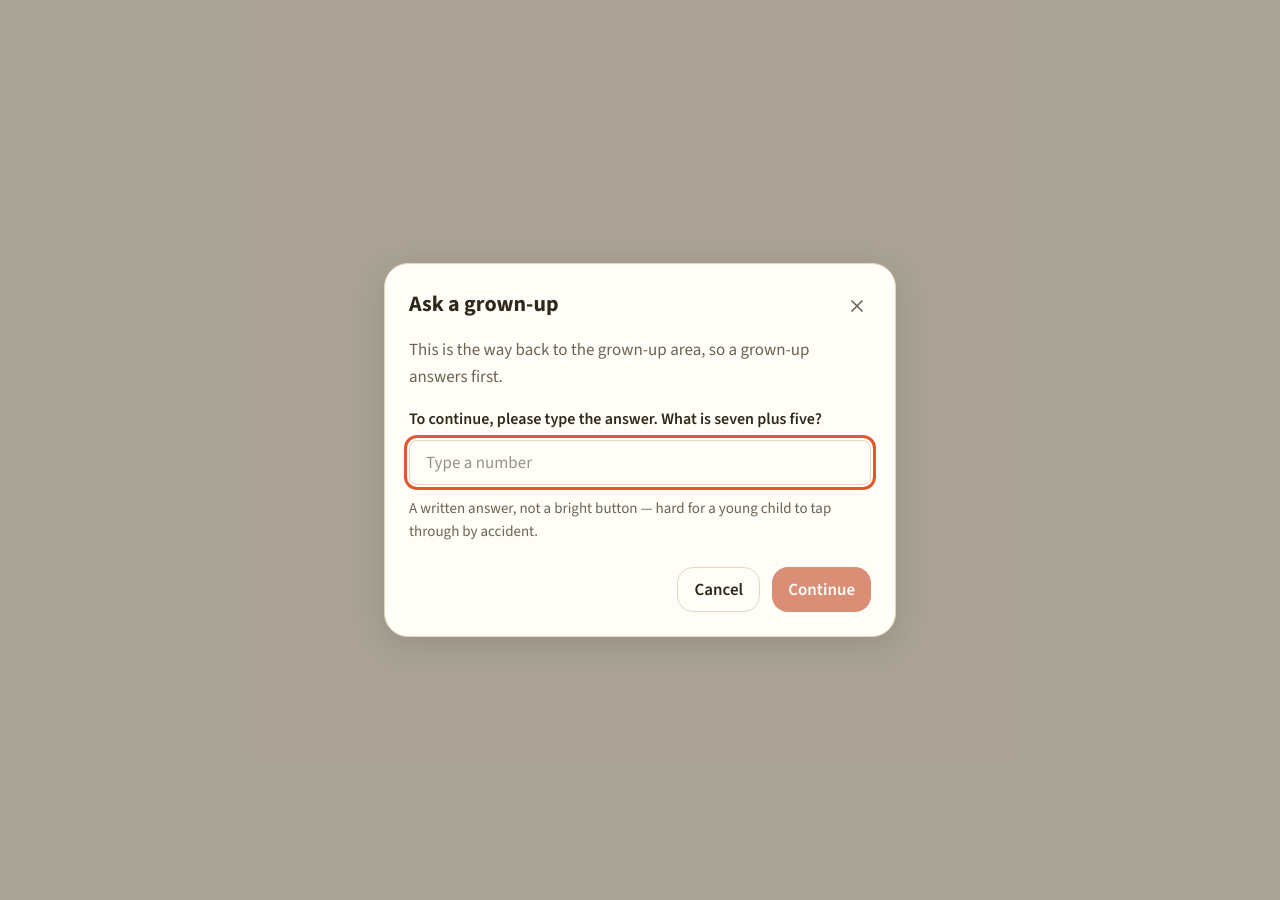
Test case: ParentalGate › keeps Continue disabled until the answer is right
Later steps or results of the test are not shown.
Expected: the button "Continue" is disabled, [772,567,871,612]
Type "11" into the field at (640, 462), box [409,440,871,485]
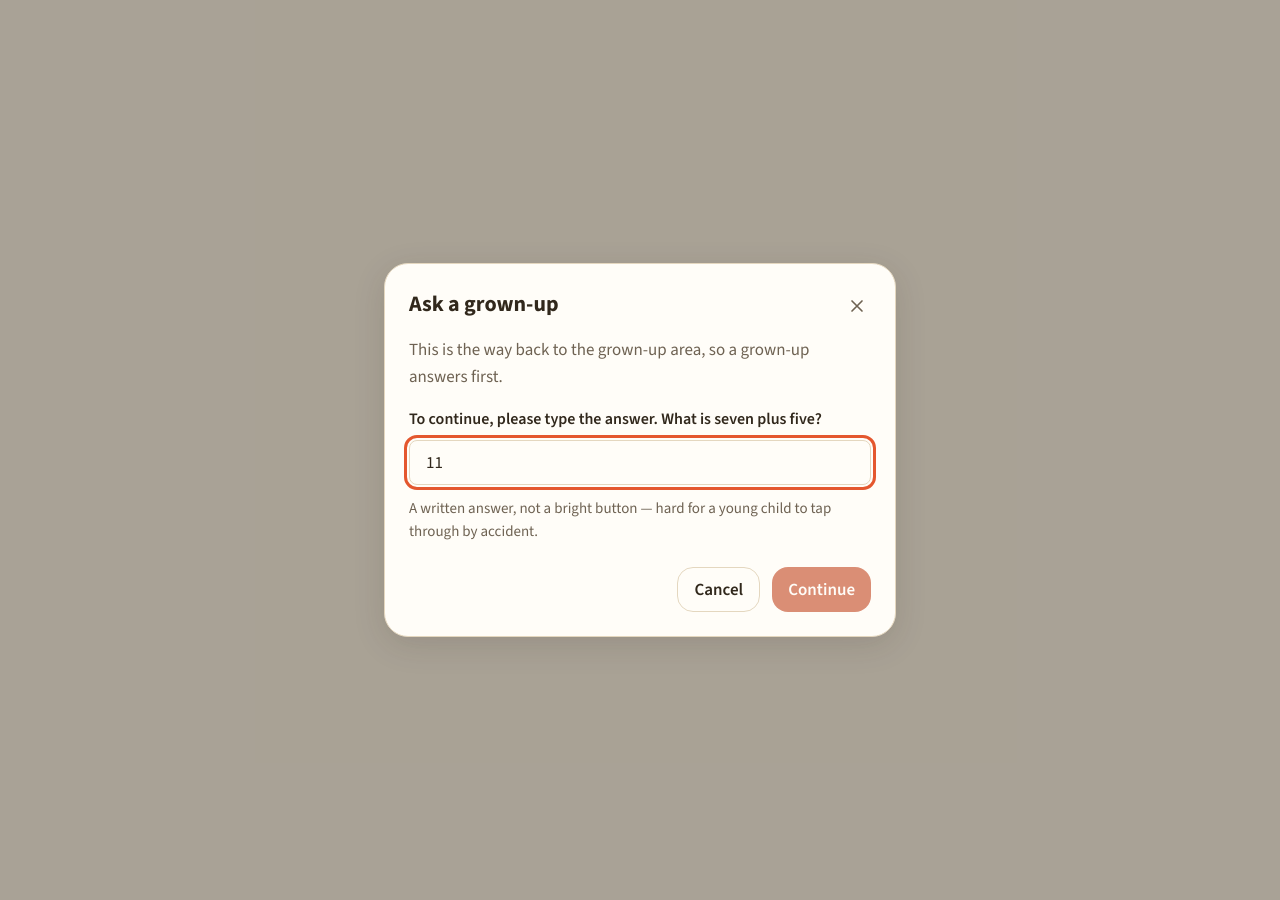
Expected: the button "Continue" is disabled, [772,567,871,612]
Replace the text in the field with "12" at (640, 462), box [409,440,871,485]
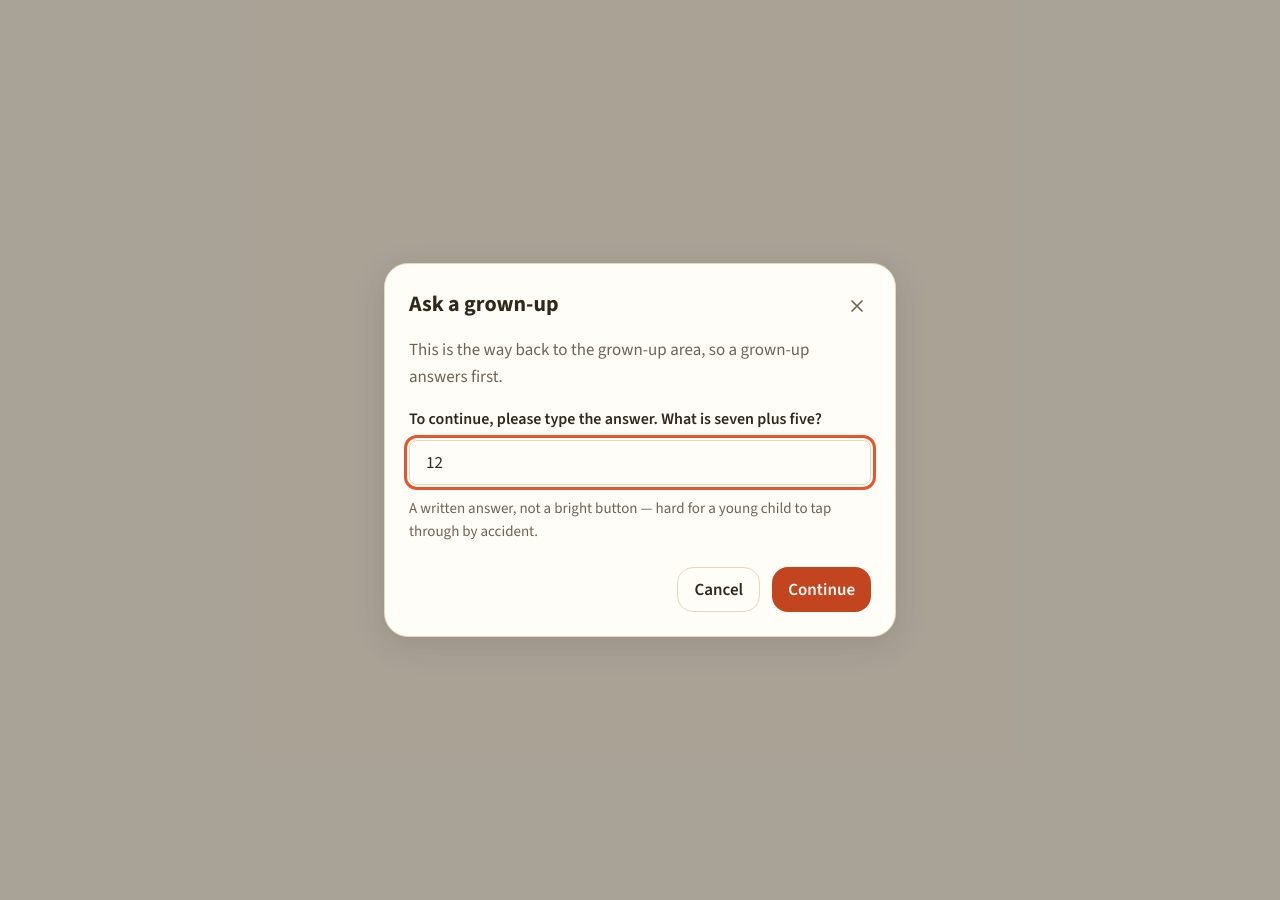
Result: the button "Continue" is enabled at [772,567,871,612]
